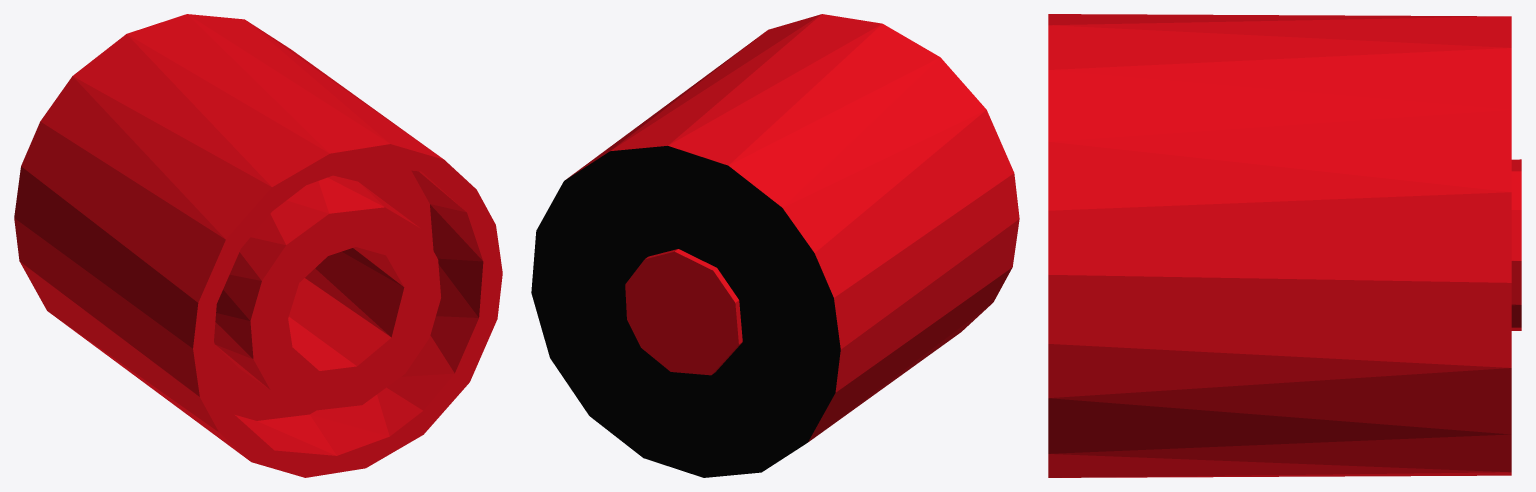
File: terminal.glb
3 renders of one model, left to right at view 1: azimuth 30°, elevation 25°; view 2: azimuth 150°, elevation 25°; view 3: azimuth 270°, elevation 25°, orthographic. The views are drawn at different scales.
Parts seen in each view (by area): view 1: Cylinder.006; view 2: Cylinder.006; view 3: Cylinder.006.
Boxes of the visible parts, bbox=[...] form: Cylinder.006: bbox=[14, 14, 502, 477]; Cylinder.006: bbox=[531, 14, 1019, 477]; Cylinder.006: bbox=[1048, 14, 1521, 477].
Bounding box in the file's own units: 7.66 × 7.64 × 7.82.
